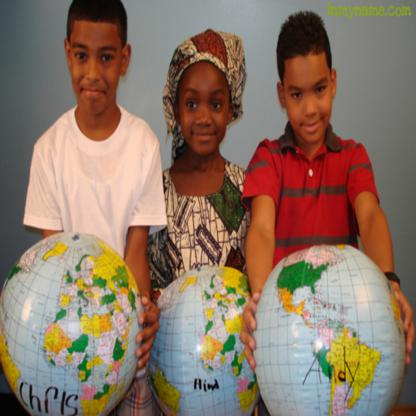Ball: (0, 232, 146, 415), (253, 248, 405, 415), (146, 264, 260, 415)
